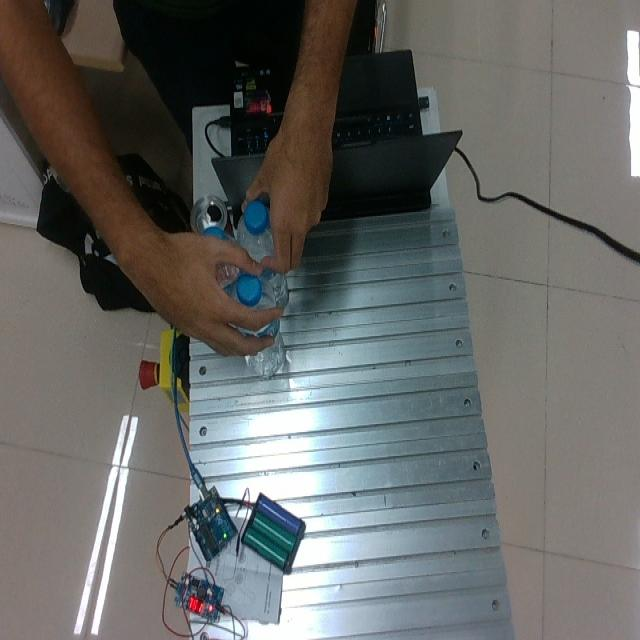coca: (189, 193, 236, 247)
lavie: (228, 264, 286, 379), (236, 200, 286, 311), (235, 201, 276, 267), (202, 227, 238, 287)
